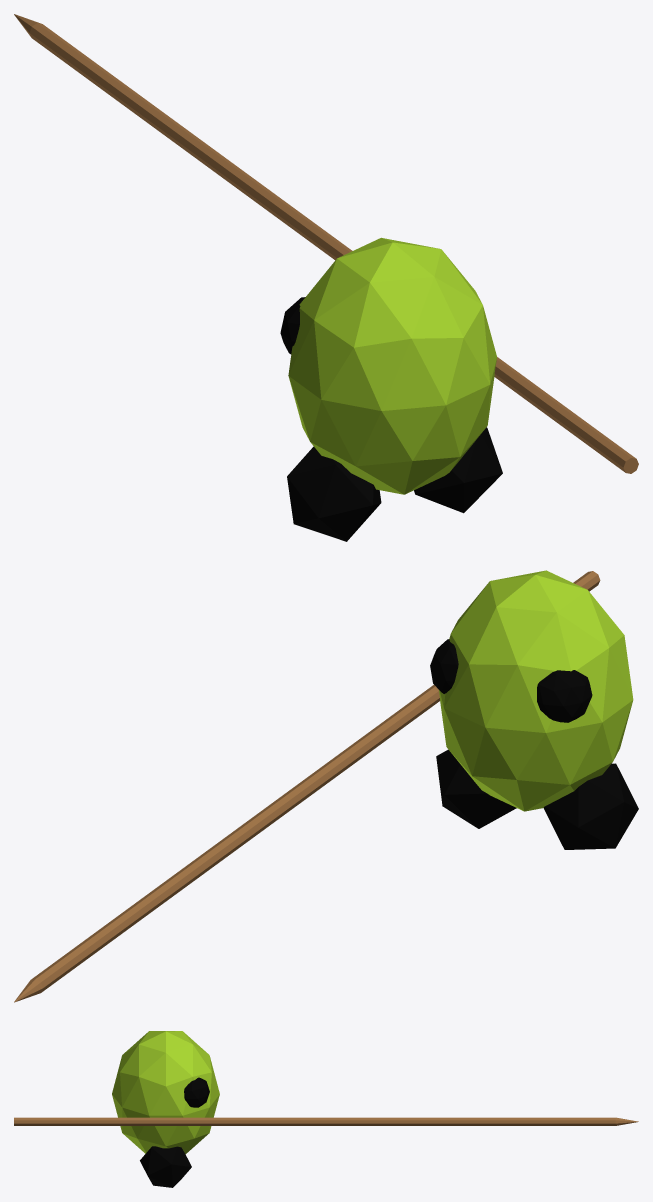
File: stab.f0016.glb
The picture shows the model from 3 angles, top to bottom: view 1: azimuth 30°, elevation 25°; view 2: azimuth 150°, elevation 25°; view 3: azimuth 270°, elevation 25°; orthographic projection. The views are drawn at different scales.
Visible parts, largest first — view 1: Body.001; view 2: Body.001; view 3: Body.001.
Part boxes in pixels (<box>): Body.001: <box>14,14,638,541</box>; Body.001: <box>14,570,638,1002</box>; Body.001: <box>14,1031,638,1187</box>.
Size of the model in its own units: 2.17 by 2.85 by 11.56.
1 material, 1 textured.
